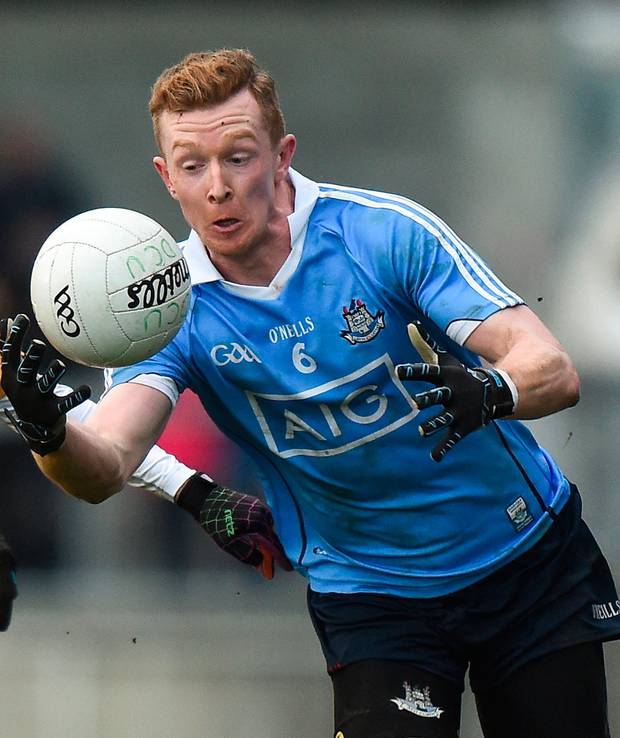ball: (29, 208, 184, 358)
player: (67, 55, 607, 730)
